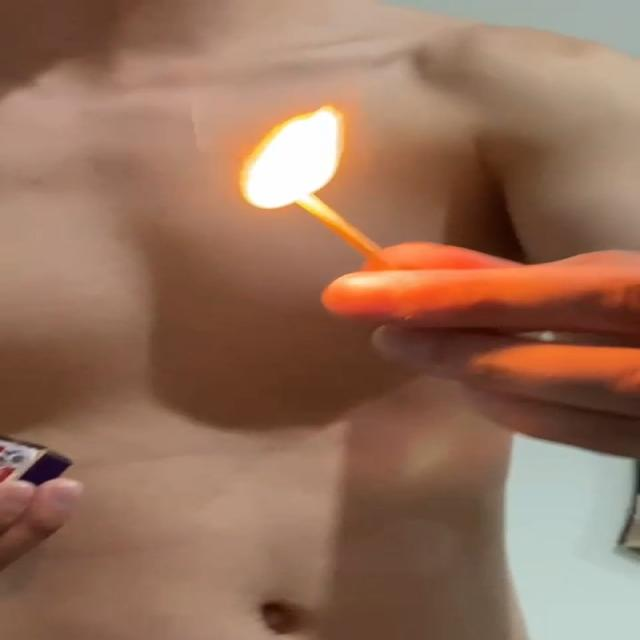fogo-ypXI: (236, 97, 349, 211)
